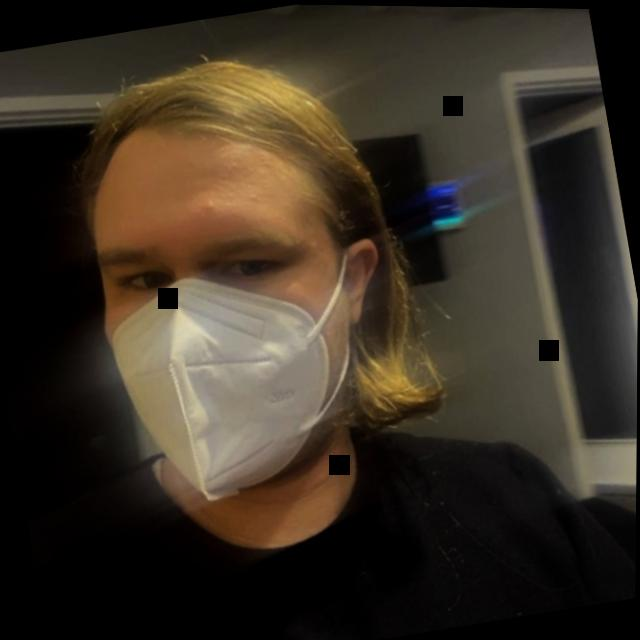Mask: (25, 34, 468, 591)
